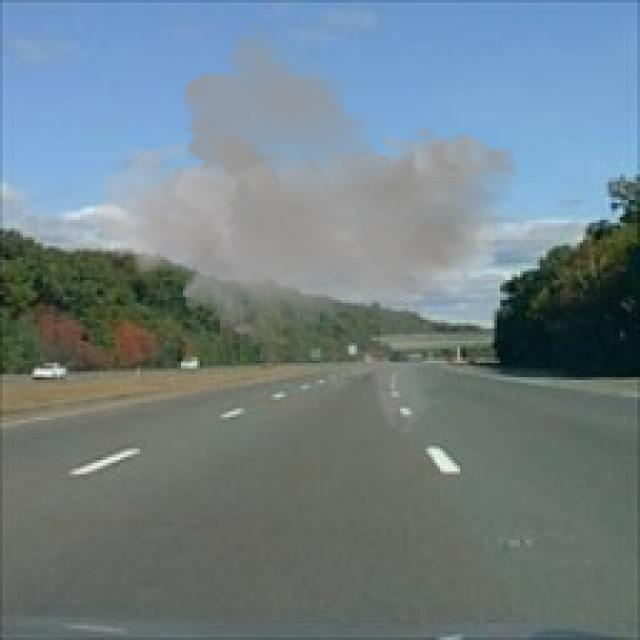Smoke: (94, 20, 520, 437)
